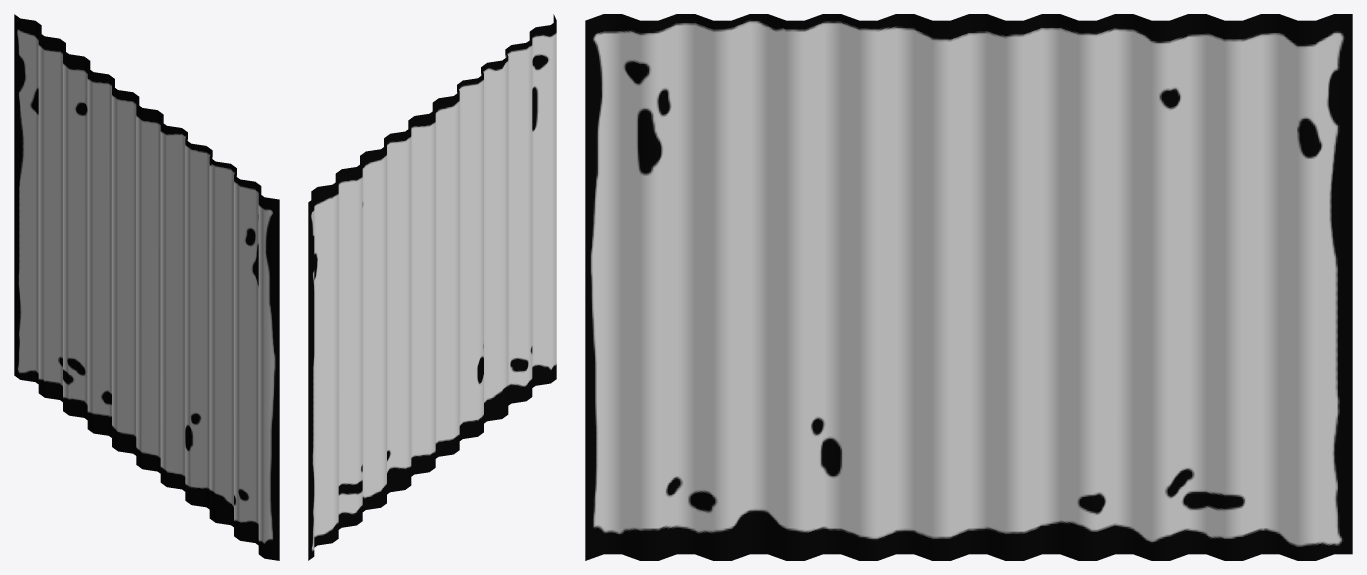
The model's file is MetalPlate3.FBX.
The picture shows the model from 3 angles, left to right: view 1: azimuth 30°, elevation 25°; view 2: azimuth 150°, elevation 25°; view 3: azimuth 270°, elevation 25°; orthographic projection. The views are drawn at different scales.
Parts seen in each view (by area): view 1: MetalPlate3; view 2: MetalPlate3; view 3: MetalPlate3.
Boxes of the visible parts, <box> form: MetalPlate3: <box>14,14,279,560</box>; MetalPlate3: <box>308,14,556,560</box>; MetalPlate3: <box>585,14,1352,560</box>.
Bounding box in the file's own units: 1.79 × 87.8 × 68.25.
